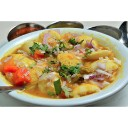idly: (6, 53, 37, 82), (70, 83, 101, 96), (57, 51, 78, 69), (88, 49, 114, 59)
